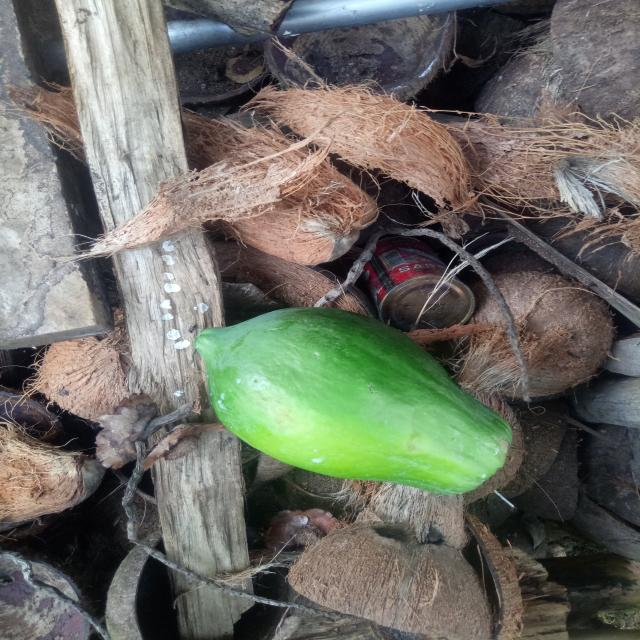Pepaya unrippen: (191, 295, 508, 500)
